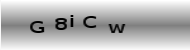8: (53, 17, 67, 32)
C: (81, 15, 98, 29)
G: (28, 20, 46, 34)
i: (69, 13, 75, 28)
w: (107, 22, 126, 34)
